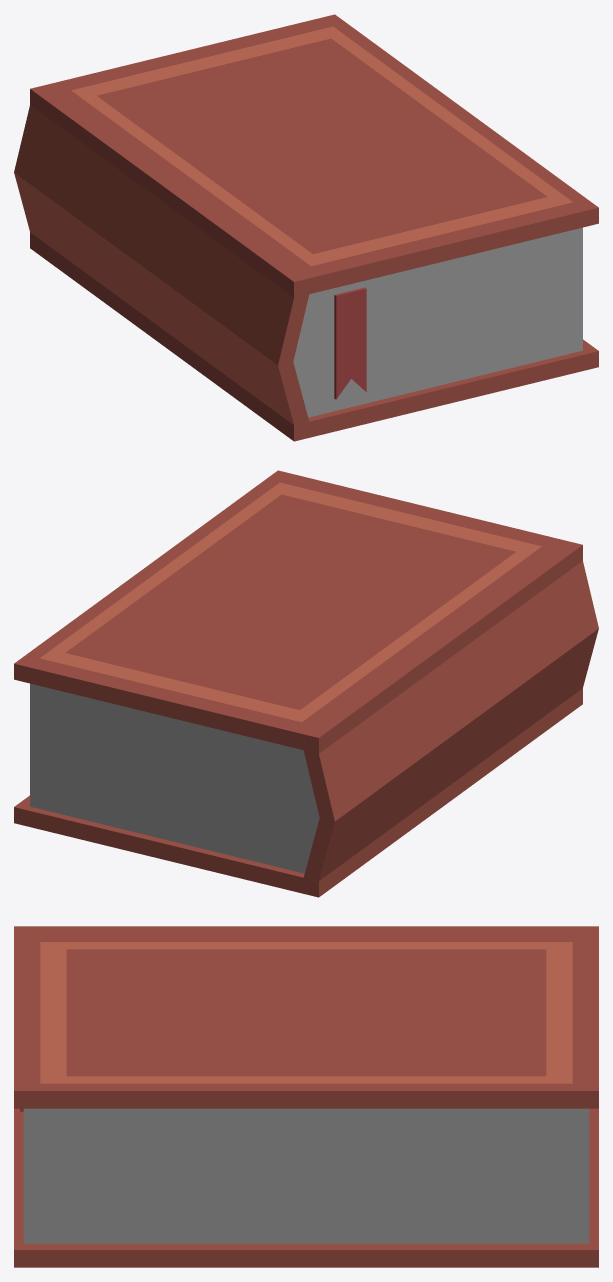
The model's file is Book_1_Red.fbx.
The picture shows the model from 3 angles, top to bottom: view 1: azimuth 30°, elevation 25°; view 2: azimuth 150°, elevation 25°; view 3: azimuth 270°, elevation 25°; orthographic projection. The views are drawn at different scales.
Visible parts, largest first — view 1: Book_1_Red_Part_1, Book_1_Red_Part_3, Book_1_Red_Part_2, Book_1_Red_Part_4; view 2: Book_1_Red_Part_1, Book_1_Red_Part_3, Book_1_Red_Part_2; view 3: Book_1_Red_Part_1, Book_1_Red_Part_3, Book_1_Red_Part_2.
Part boxes in pixels (x1,y1,x2,y2): Book_1_Red_Part_1: [14, 14, 598, 441]; Book_1_Red_Part_3: [293, 227, 582, 417]; Book_1_Red_Part_2: [71, 26, 572, 266]; Book_1_Red_Part_4: [334, 287, 366, 399]; Book_1_Red_Part_1: [14, 470, 598, 897]; Book_1_Red_Part_3: [30, 683, 319, 873]; Book_1_Red_Part_2: [40, 482, 541, 722]; Book_1_Red_Part_1: [14, 926, 598, 1267]; Book_1_Red_Part_3: [23, 1108, 589, 1243]; Book_1_Red_Part_2: [40, 942, 572, 1083].
Bounding box in the file's own units: 21.06 × 10 × 30.
